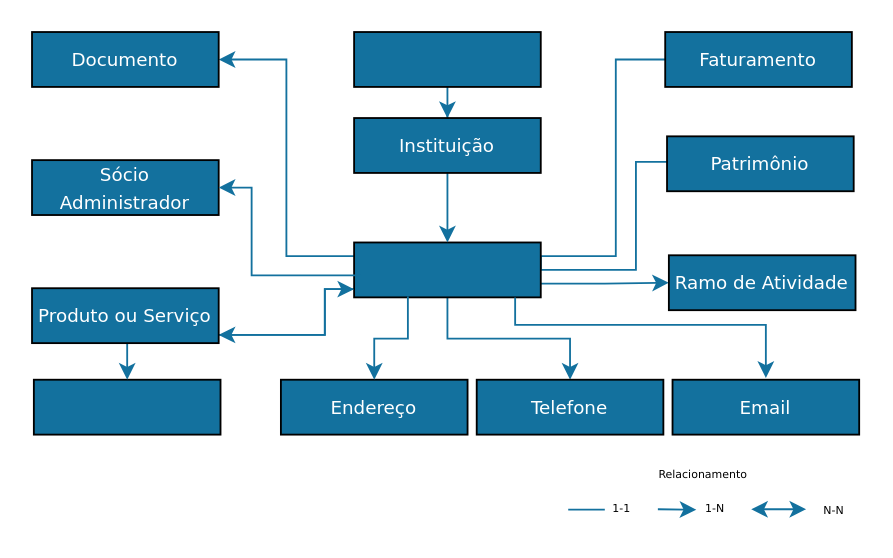
Some shapes in this 893 by 558 pixel diagram are drawn without their labels. The shapes that lost their labels are listed below. From the top down, each one's centre as x and y in pixels, then its label:
At point 446,58: "Marca".
At point 446,269: "Cliente PJ".
At point 126,406: "Representante".
